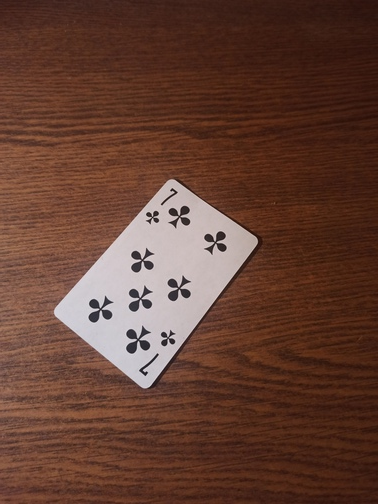sevenclubs: (51, 176, 261, 389)
